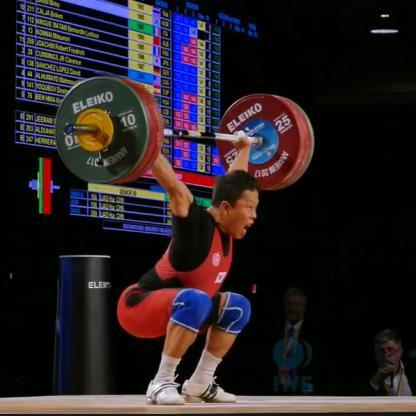barbell: (57, 77, 316, 189)
